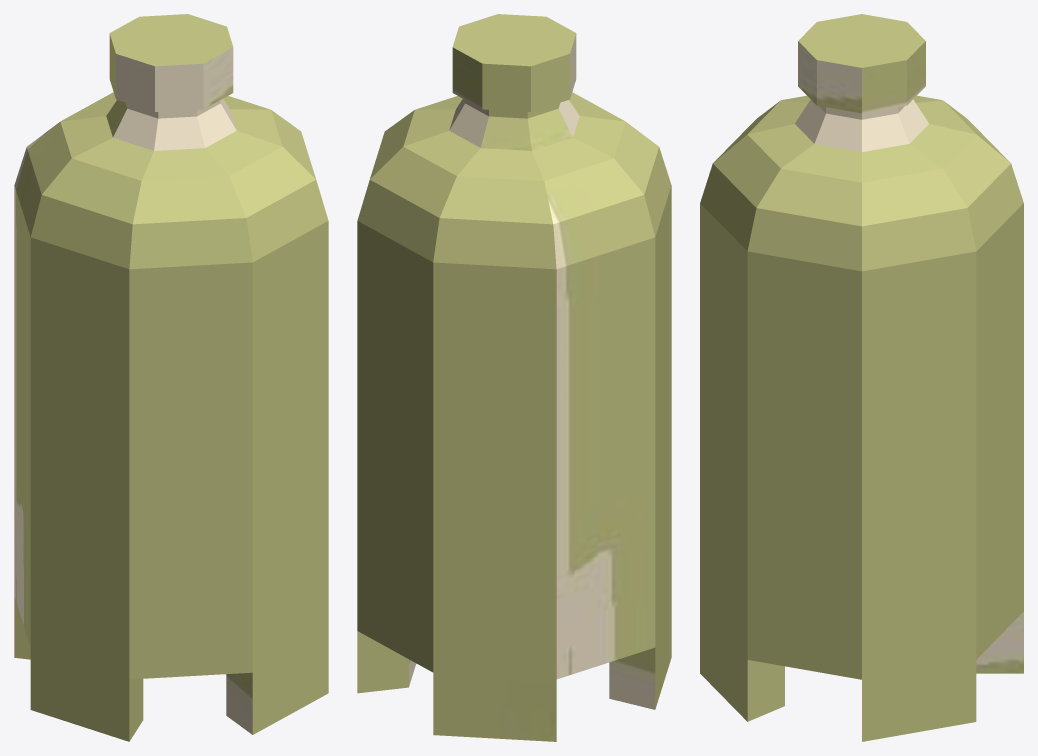
The model's file is PlasticBottle.fbx.
The picture shows the model from 3 angles, left to right: view 1: azimuth 30°, elevation 25°; view 2: azimuth 150°, elevation 25°; view 3: azimuth 270°, elevation 25°; orthographic projection.
Visible parts, largest first — view 1: Pkastic Bottle; view 2: Pkastic Bottle; view 3: Pkastic Bottle.
Part boxes in pixels (x1,y1,x2,y2): Pkastic Bottle: (14,14,328,741); Pkastic Bottle: (357,14,671,741); Pkastic Bottle: (700,14,1023,741).
Size of the model in its own units: 200 by 431 by 200.
